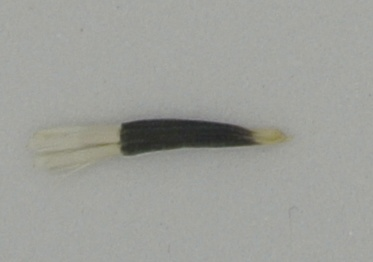เมล็ดดีติดกัน: (26, 112, 292, 179)
